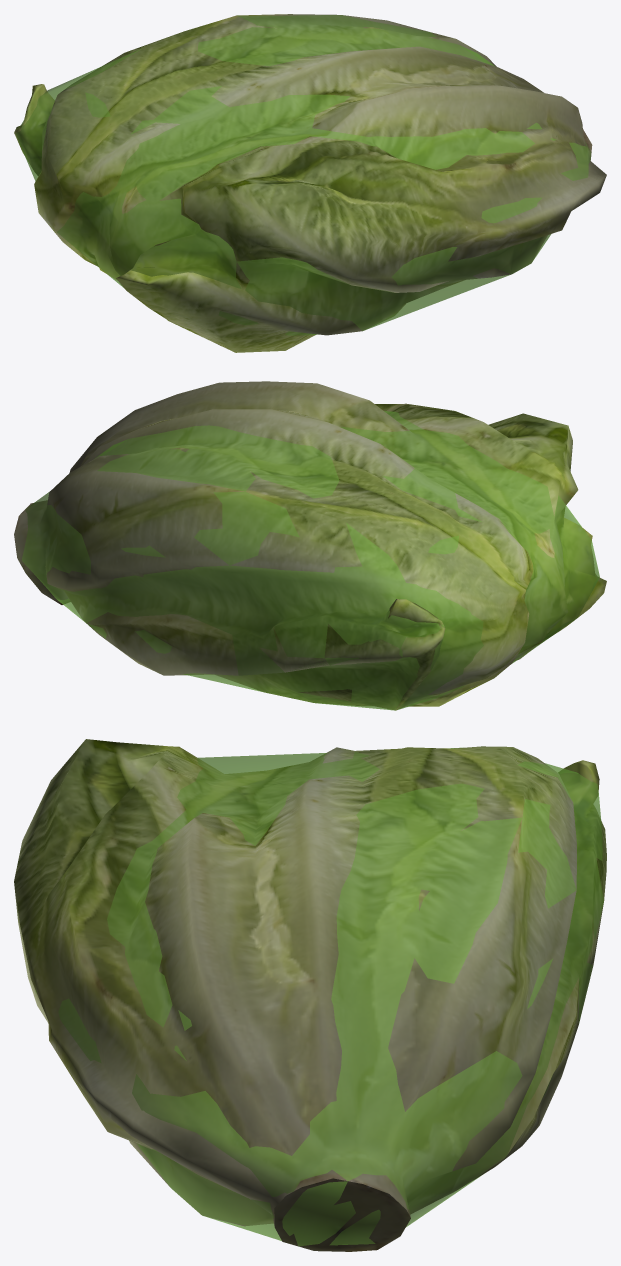
File: pg_Lettuce_01.fbx
3 views of the same model, one above another, from view 1: azimuth 30°, elevation 25°; view 2: azimuth 150°, elevation 25°; view 3: azimuth 270°, elevation 25° (orthographic). The views are drawn at different scales.
Visible parts, largest first — view 1: pg_Lettuce_01_a_LOD0, pg_Lettuce_01_a_col; view 2: pg_Lettuce_01_a_LOD0, pg_Lettuce_01_a_col; view 3: pg_Lettuce_01_a_LOD0, pg_Lettuce_01_a_col.
Part boxes in pixels (x1,y1,x2,y2): pg_Lettuce_01_a_LOD0: (14, 14, 606, 352); pg_Lettuce_01_a_col: (16, 15, 591, 335); pg_Lettuce_01_a_LOD0: (14, 381, 606, 710); pg_Lettuce_01_a_col: (22, 411, 599, 710); pg_Lettuce_01_a_LOD0: (14, 739, 606, 1251); pg_Lettuce_01_a_col: (35, 747, 603, 1246).
Size of what is drawn, in the model's own units: 18.51 by 8.27 by 13.66.
Materials: 2 (1 with a texture image).
